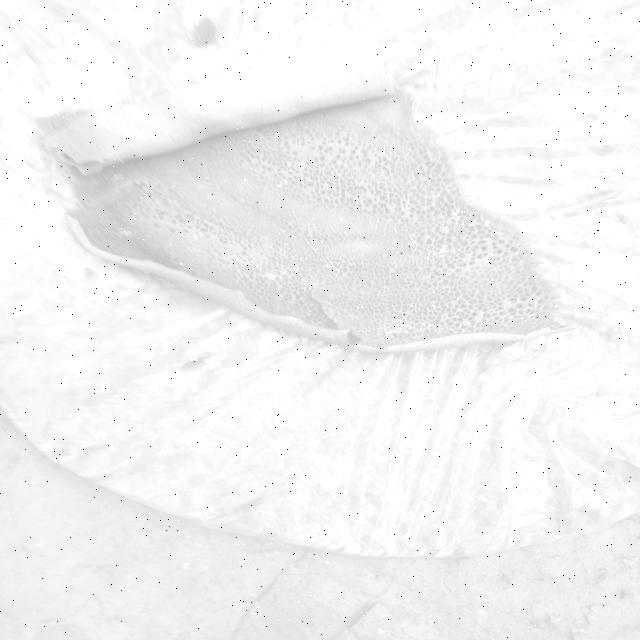injera_mold: (428, 246, 452, 261), (382, 321, 406, 336), (518, 291, 536, 309), (302, 276, 318, 292), (288, 158, 303, 174), (407, 301, 423, 315), (452, 208, 462, 225), (325, 262, 340, 273), (119, 228, 132, 240), (275, 178, 289, 189), (110, 172, 125, 182), (274, 249, 288, 259), (241, 177, 252, 189), (266, 271, 277, 283), (464, 324, 477, 332), (482, 219, 492, 229), (454, 246, 464, 256), (431, 328, 441, 337), (346, 326, 357, 334), (192, 234, 202, 241), (480, 316, 487, 326), (430, 302, 437, 312), (346, 81, 356, 88), (312, 246, 321, 253), (413, 336, 423, 342), (358, 346, 368, 352), (409, 319, 414, 330), (444, 225, 449, 235), (178, 261, 185, 268), (328, 335, 340, 339), (355, 306, 366, 310), (424, 323, 431, 329), (386, 340, 393, 346), (393, 227, 399, 234), (471, 207, 478, 213), (368, 324, 372, 334), (428, 238, 436, 242), (464, 213, 468, 221), (372, 344, 380, 348), (189, 248, 194, 254), (431, 226, 436, 232), (340, 216, 344, 223), (550, 324, 557, 328), (456, 297, 461, 302), (554, 304, 559, 309), (458, 323, 462, 329), (479, 214, 485, 218), (399, 340, 405, 344), (327, 303, 333, 307), (146, 234, 151, 238), (359, 329, 362, 335), (344, 136, 348, 140), (525, 278, 530, 281), (432, 291, 436, 294), (422, 275, 426, 278), (436, 234, 441, 236)
